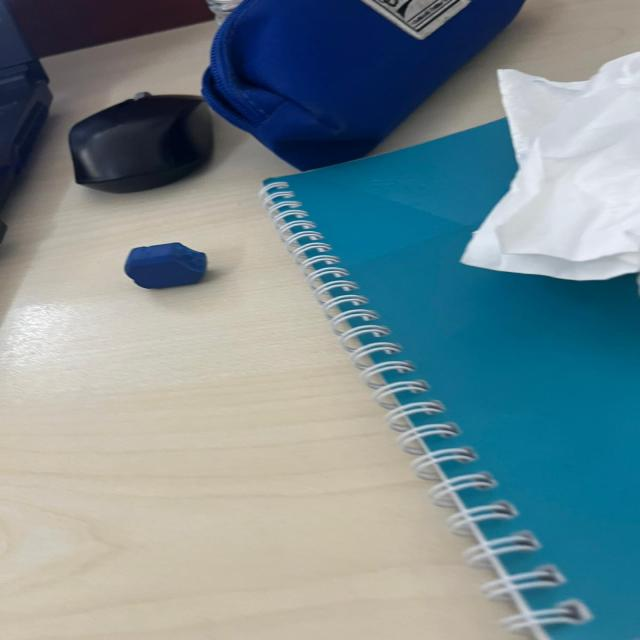eraser: (120, 242, 213, 296)
